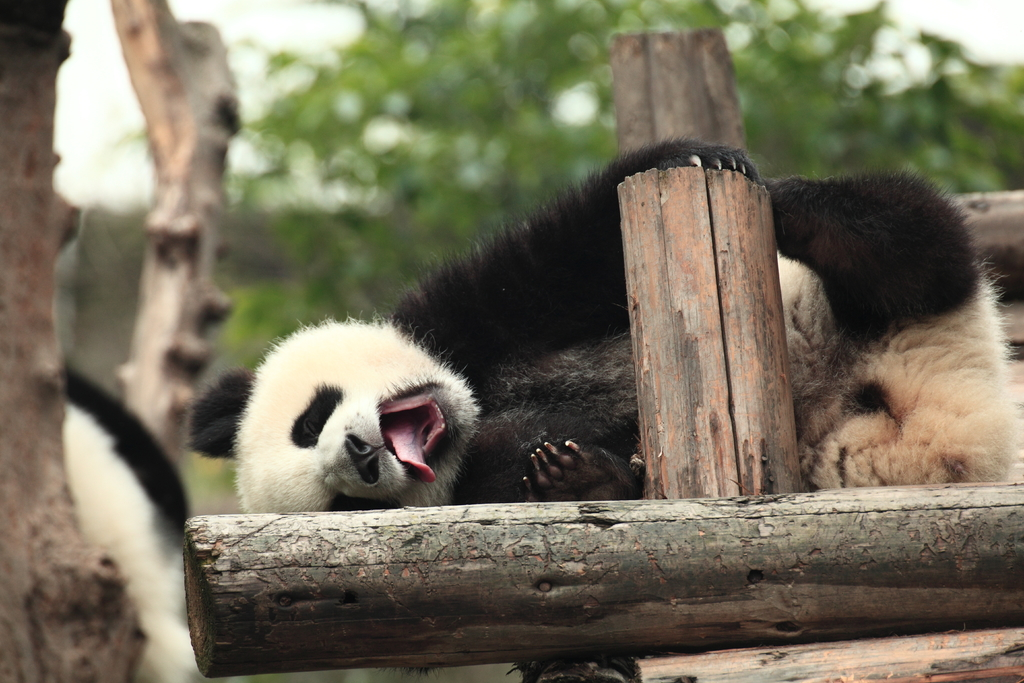Tree: (105, 0, 1024, 374), (0, 1, 147, 683), (108, 0, 242, 468)
